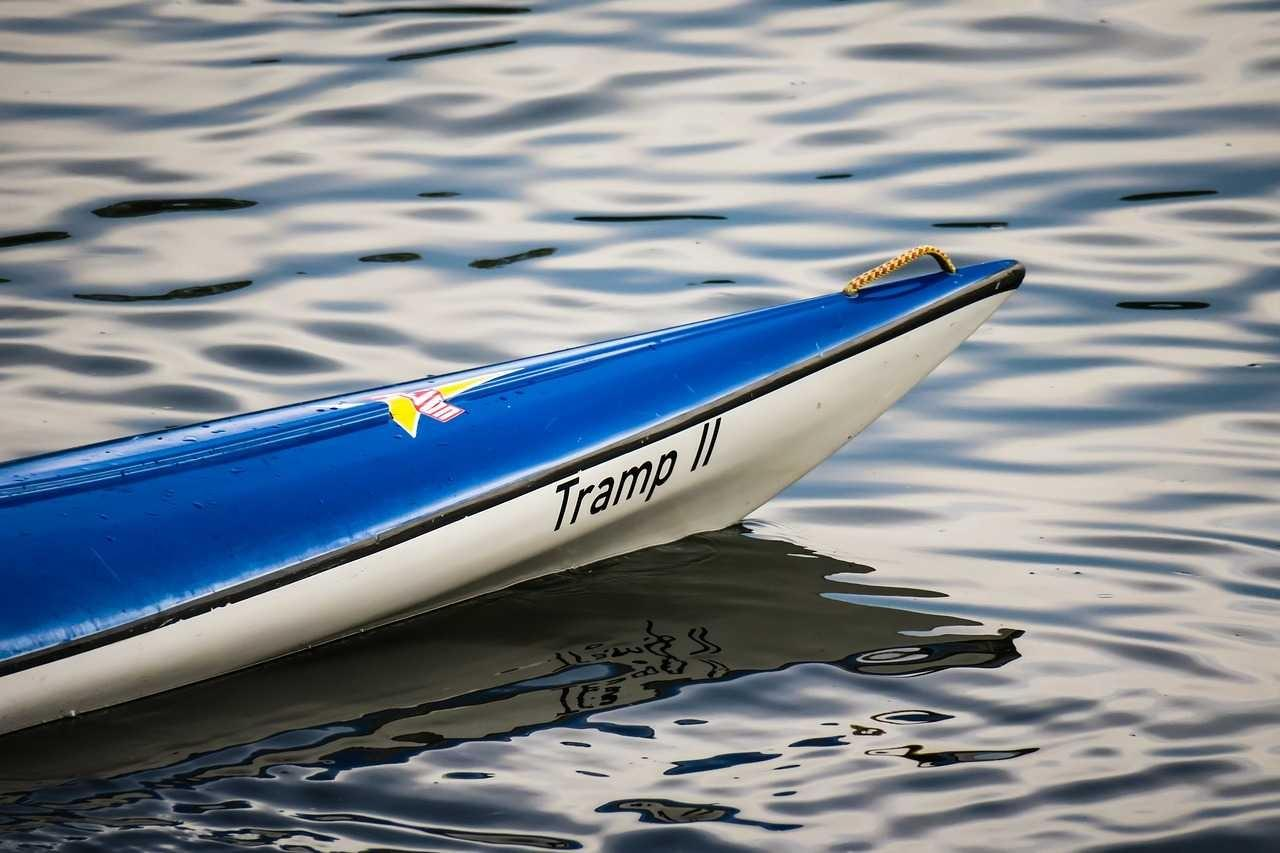kayak: (0, 234, 1026, 771)
